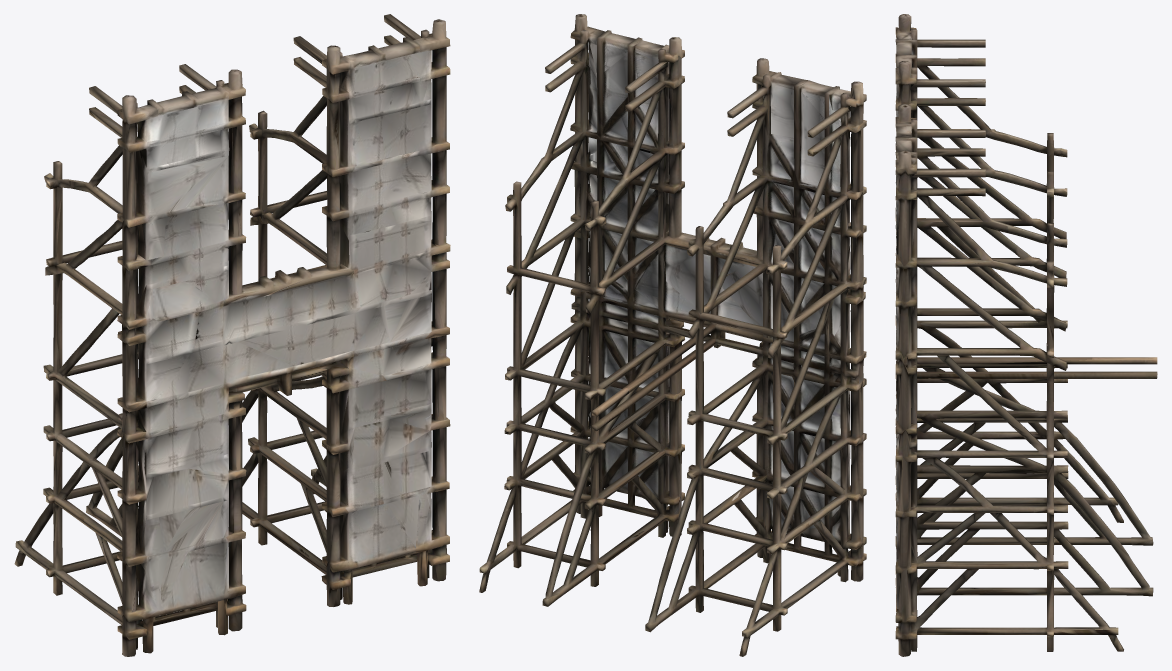
The model's file is sign-letter-H.glb.
3 renders of one model, left to right at view 1: azimuth 30°, elevation 25°; view 2: azimuth 150°, elevation 25°; view 3: azimuth 270°, elevation 25°, orthographic. The views are drawn at different scales.
Parts seen in each view (by area): view 1: model; view 2: model; view 3: model.
Boxes of the visible parts, left/top/right/bottom form: model: left=14, top=14, right=450, bottom=656; model: left=479, top=14, right=866, bottom=656; model: left=895, top=14, right=1157, bottom=656.
Bounding box in the file's own units: 8.08 × 13.4 × 6.31.
1 material, 1 textured.
